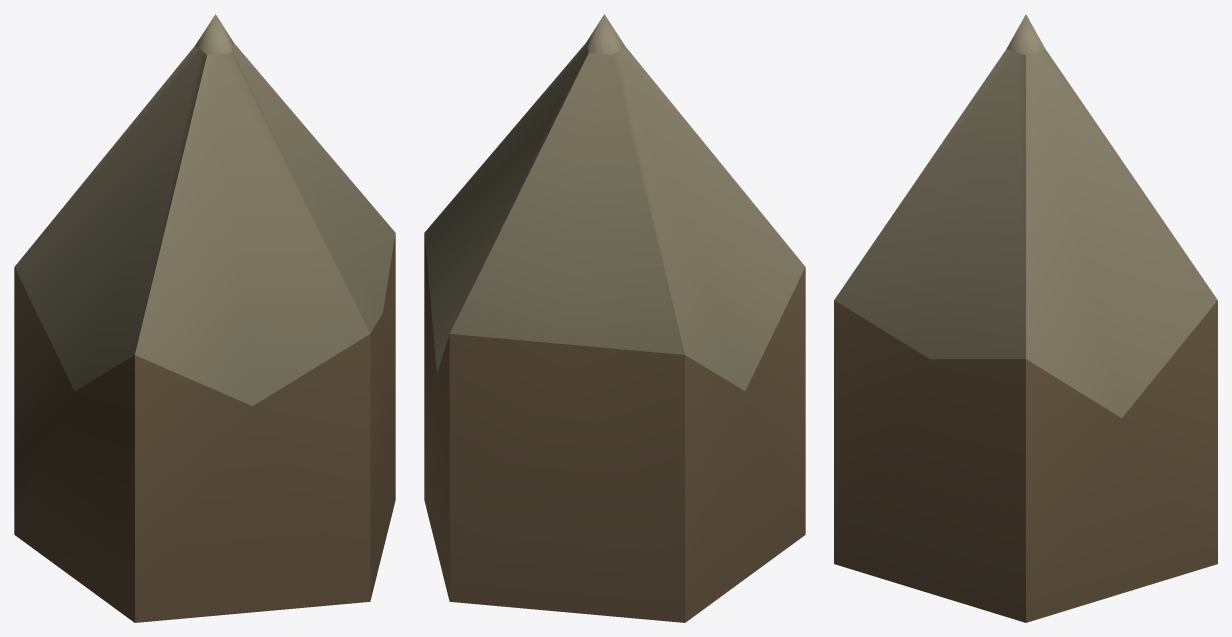
File: Spike_Wood.fbx
The picture shows the model from 3 angles, left to right: view 1: azimuth 30°, elevation 25°; view 2: azimuth 150°, elevation 25°; view 3: azimuth 270°, elevation 25°; orthographic projection.
Parts seen in each view (by area): view 1: Spike_Wood; view 2: Spike_Wood; view 3: Spike_Wood.
Boxes of the visible parts, left/top/right/bottom form: Spike_Wood: left=14, top=14, right=395, bottom=622; Spike_Wood: left=424, top=14, right=805, bottom=622; Spike_Wood: left=834, top=14, right=1217, bottom=622.
Bounding box in the file's own units: 1.81 × 2.86 × 1.9.
